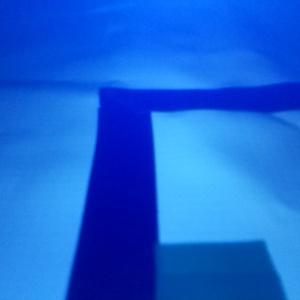top_right: (79, 241, 286, 300)
